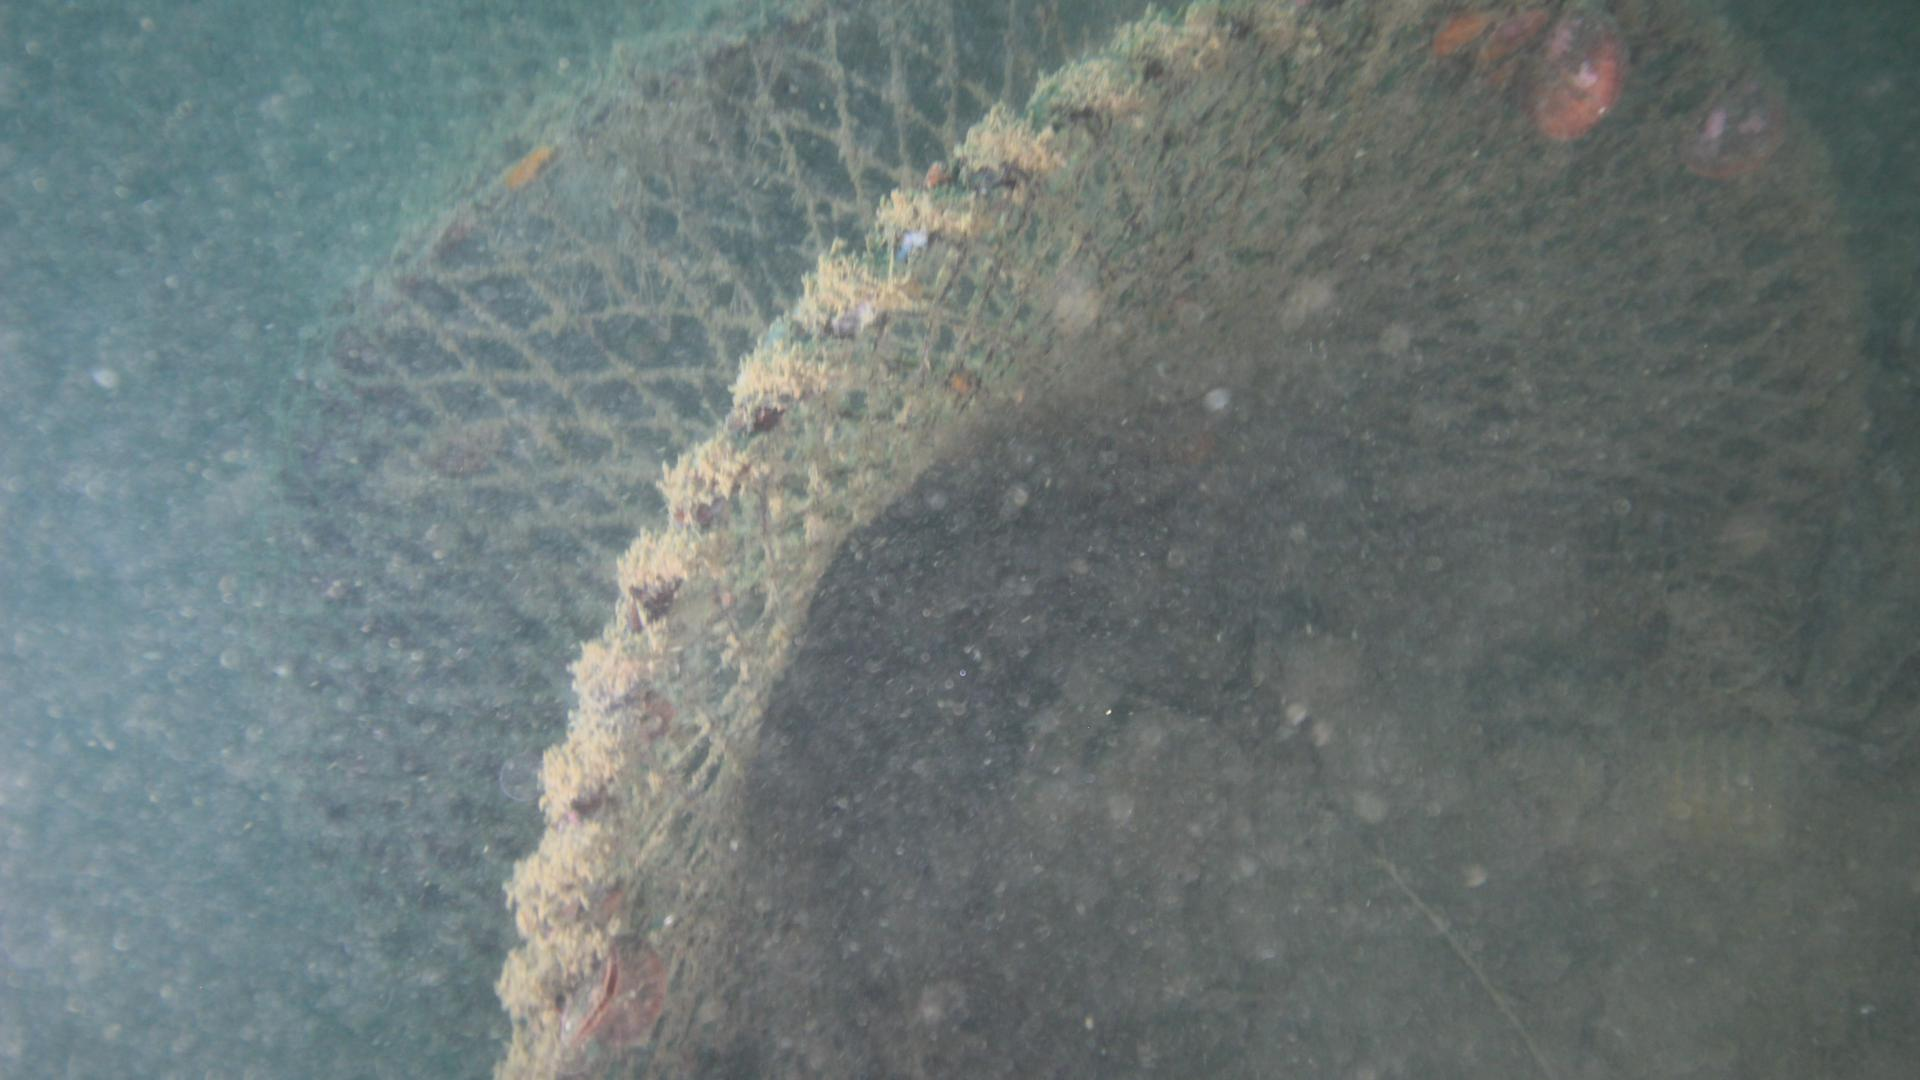circular fish trap: (262, 0, 1875, 1080)
